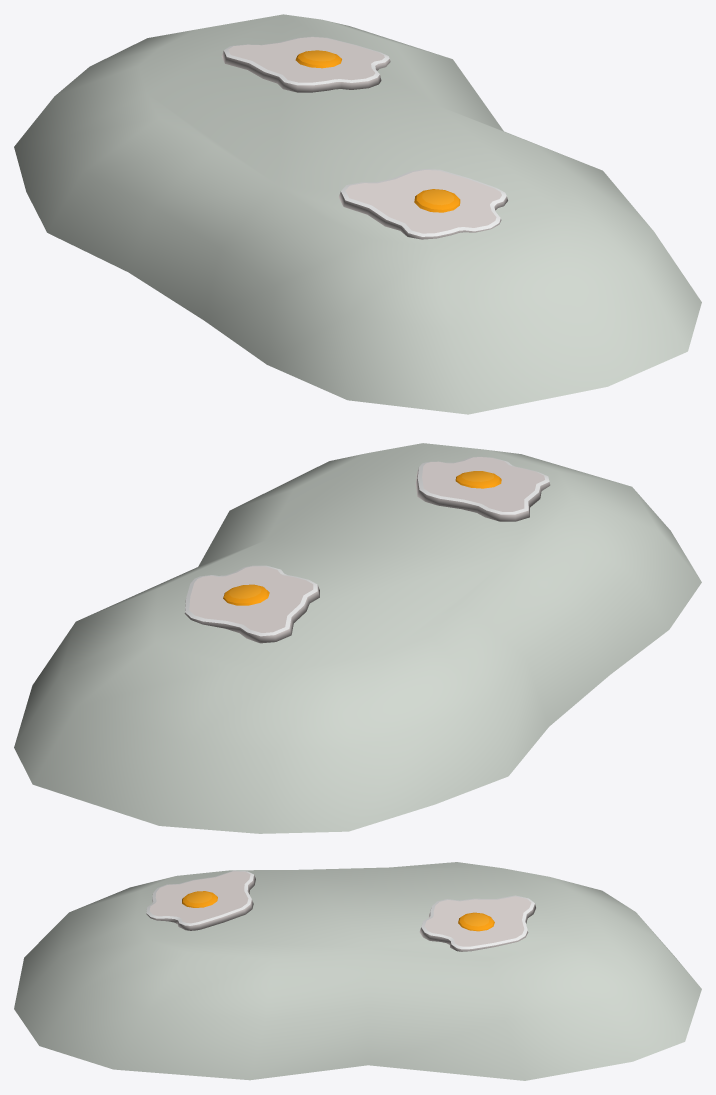
The model's file is CakeProp.glb.
3 views of the same model, one above another, from view 1: azimuth 30°, elevation 25°; view 2: azimuth 150°, elevation 25°; view 3: azimuth 270°, elevation 25° (orthographic). The views are drawn at different scales.
Parts seen in each view (by area): view 1: CakeProp; view 2: CakeProp; view 3: CakeProp.
Boxes of the visible parts, left/top/right/bottom form: CakeProp: left=14, top=14, right=701, bottom=414; CakeProp: left=14, top=443, right=701, bottom=833; CakeProp: left=14, top=862, right=701, bottom=1080.
Size of the model in its own units: 0.2416 by 0.0605 by 0.4056.
Materials: 1 (1 with a texture image).
